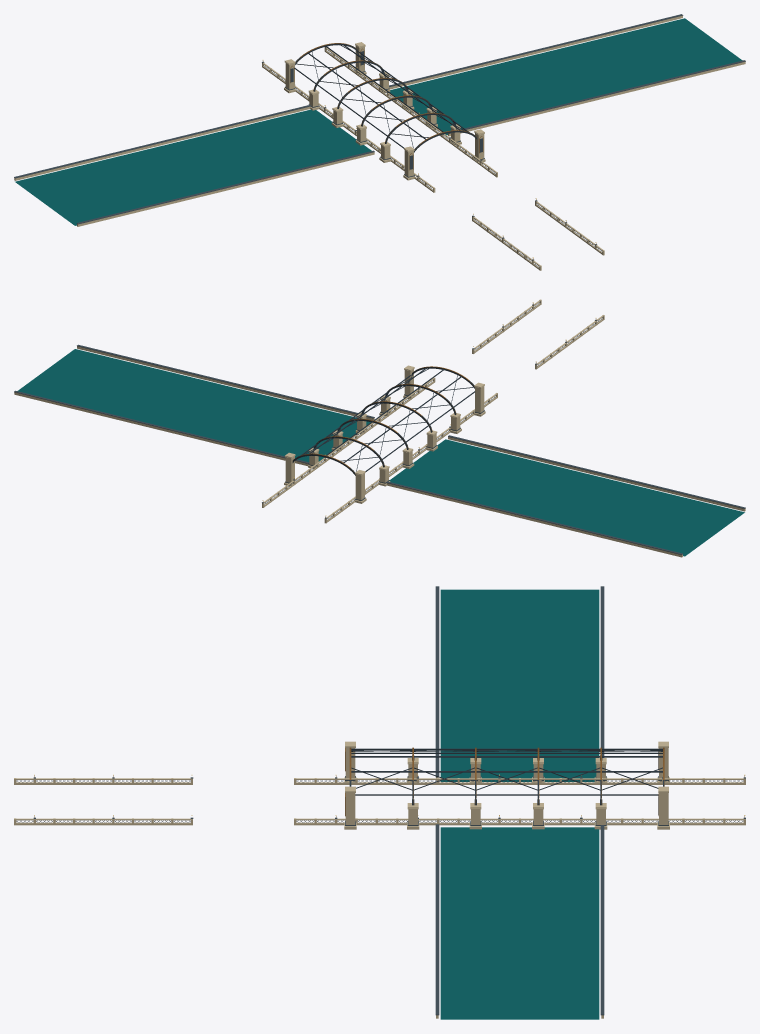
File: QuaysideBridge.dae
3 renders of one model, top to bottom at view 1: azimuth 30°, elevation 25°; view 2: azimuth 150°, elevation 25°; view 3: azimuth 270°, elevation 25°, orthographic. The views are drawn at different scales.
Visible parts, largest first — view 1: water, limestone, slate, steel, brass; view 2: water, limestone, slate, steel, brass; view 3: water, limestone, steel, slate.
Part boxes in pixels (x1,y1,x2,y2): water: (15, 18, 742, 225); limestone: (14, 15, 745, 270); slate: (14, 14, 745, 260); steel: (263, 43, 601, 267); brass: (263, 43, 596, 259); water: (17, 349, 744, 556); limestone: (14, 299, 745, 557); slate: (14, 304, 745, 554); steel: (264, 302, 602, 520); brass: (263, 303, 596, 517); water: (440, 589, 599, 1019); limestone: (14, 741, 745, 1018); steel: (16, 748, 743, 822); slate: (33, 586, 745, 1015).
Size of the model in its own units: 276 by 14.65 by 199.
